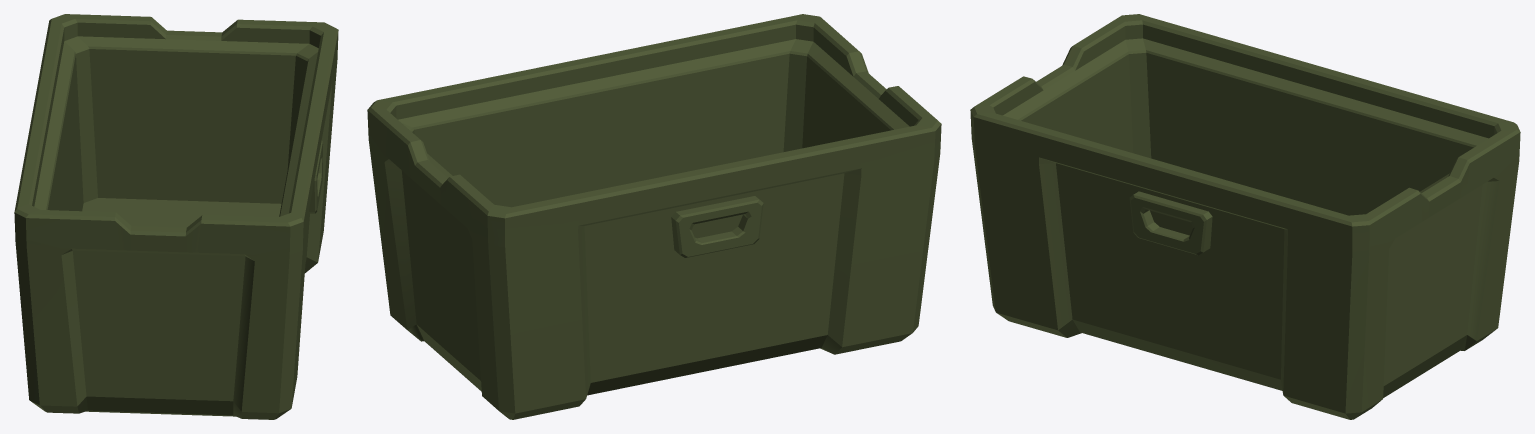
Rendered from caixa_2_corpo.glb.
3 renders of one model, left to right at view 1: azimuth 30°, elevation 25°; view 2: azimuth 150°, elevation 25°; view 3: azimuth 270°, elevation 25°, orthographic. The views are drawn at different scales.
Visible parts, largest first — view 1: SM_WeaponCrate_02_B; view 2: SM_WeaponCrate_02_B; view 3: SM_WeaponCrate_02_B.
Boxes of the visible parts, x1=… form: SM_WeaponCrate_02_B: x1=14, y1=14, x2=338, y2=419; SM_WeaponCrate_02_B: x1=367, y1=14, x2=941, y2=419; SM_WeaponCrate_02_B: x1=970, y1=14, x2=1520, y2=419.
Size of the model in its own units: 0.7968 by 0.3724 by 0.8764.
